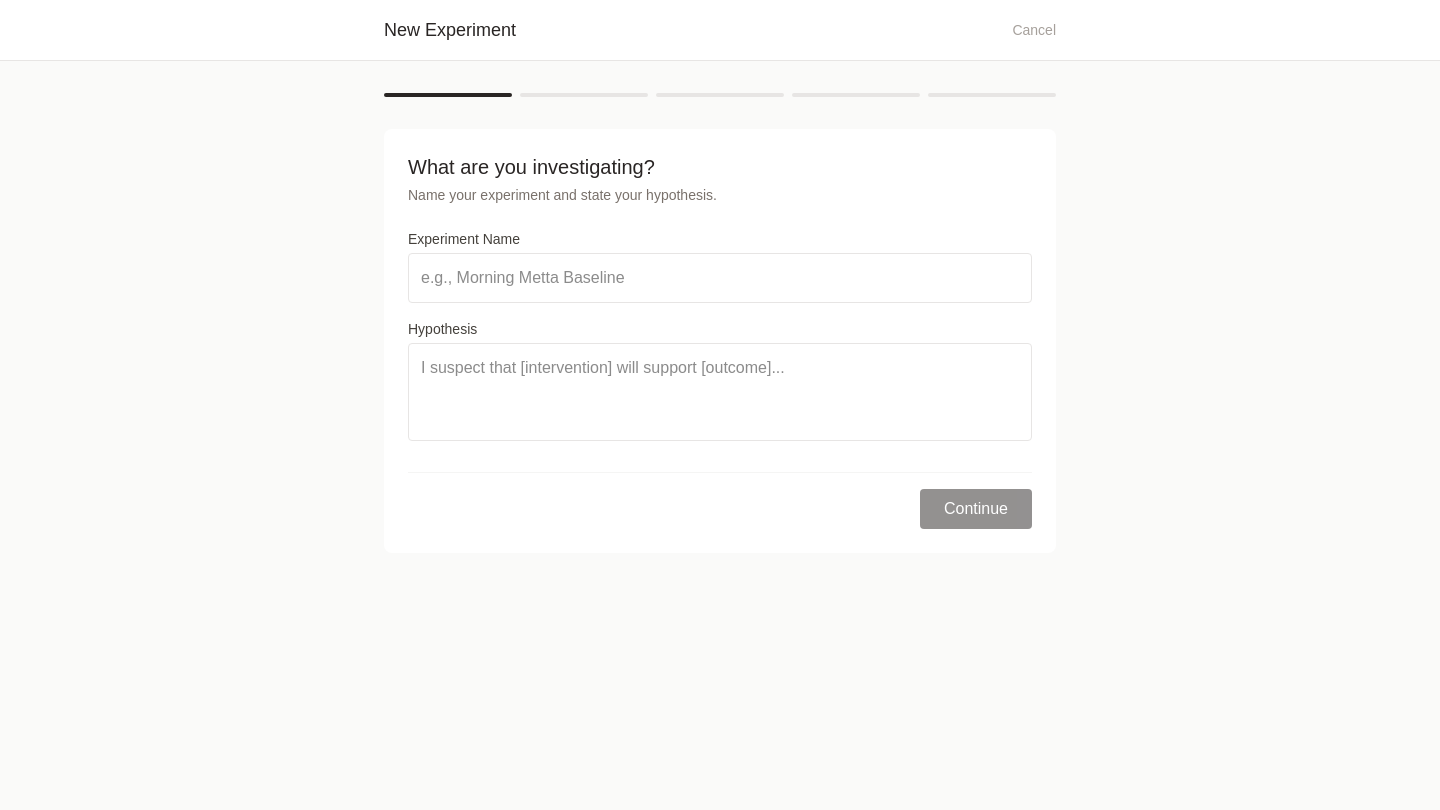
Scenario: CreateExperiment › Step 3: Metrics › adds a new metric
Type "Test" into the field with placeholder "e.g., Morning Metta Baseline" at (720, 278), box [408,253,1032,303]
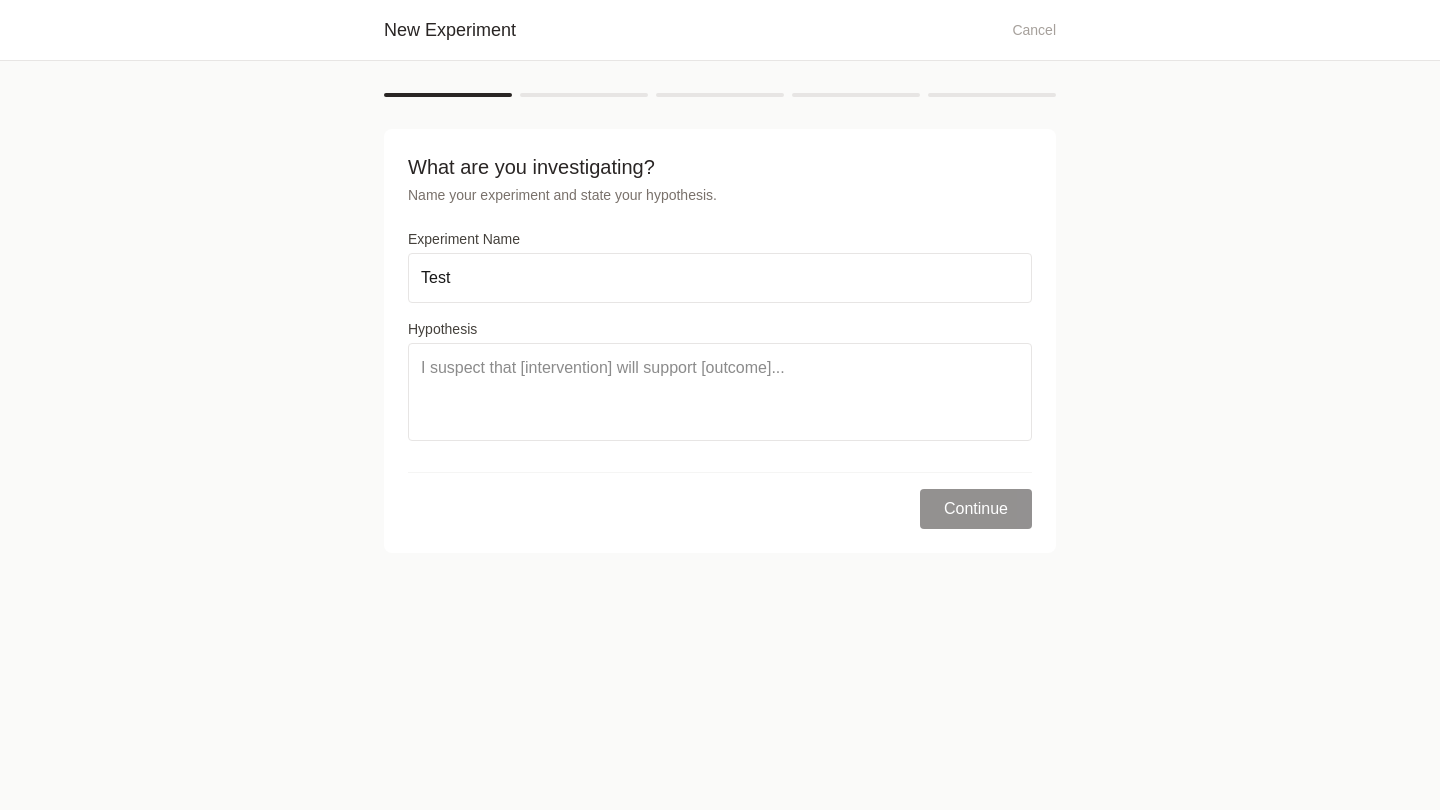
Type "Hypothesis" into the text box with placeholder "I suspect that [intervention] will support [outcome]..." at (720, 392), box [408,343,1032,441]
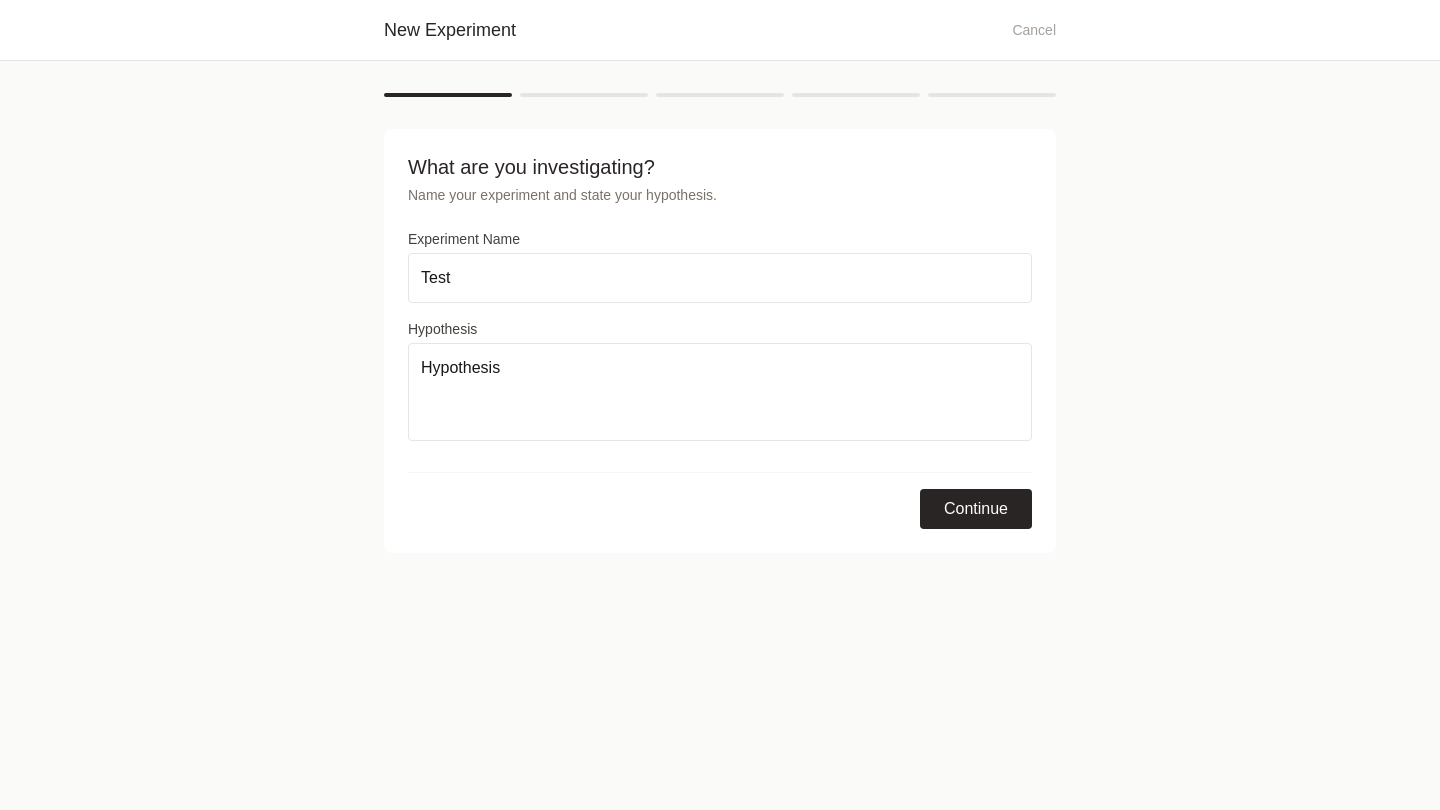
Click the button "Continue" at (976, 509), box [920,489,1032,529]
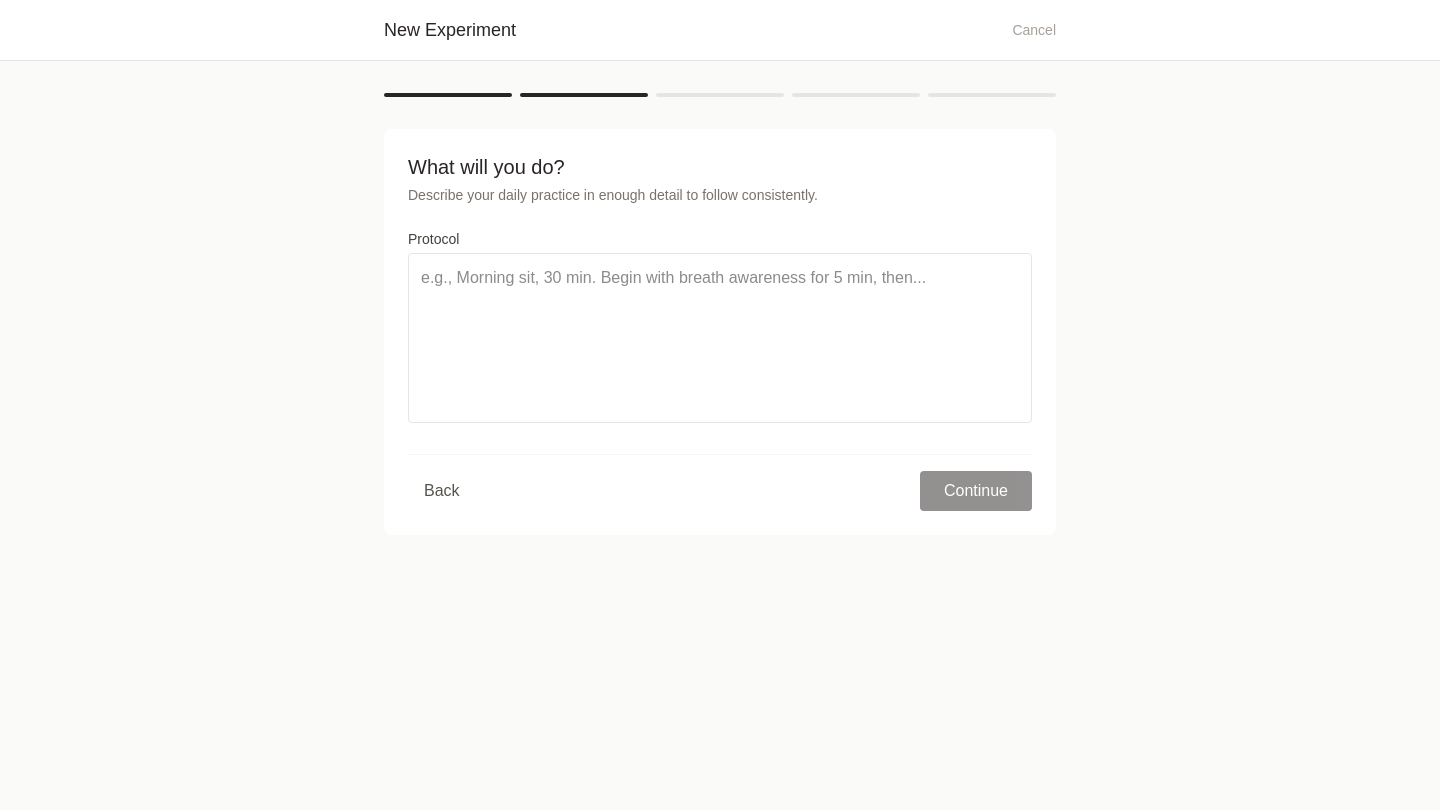
Replace the text in the text box with placeholder "Morning sit" with "Protocol" at (720, 338), box [408,253,1032,423]
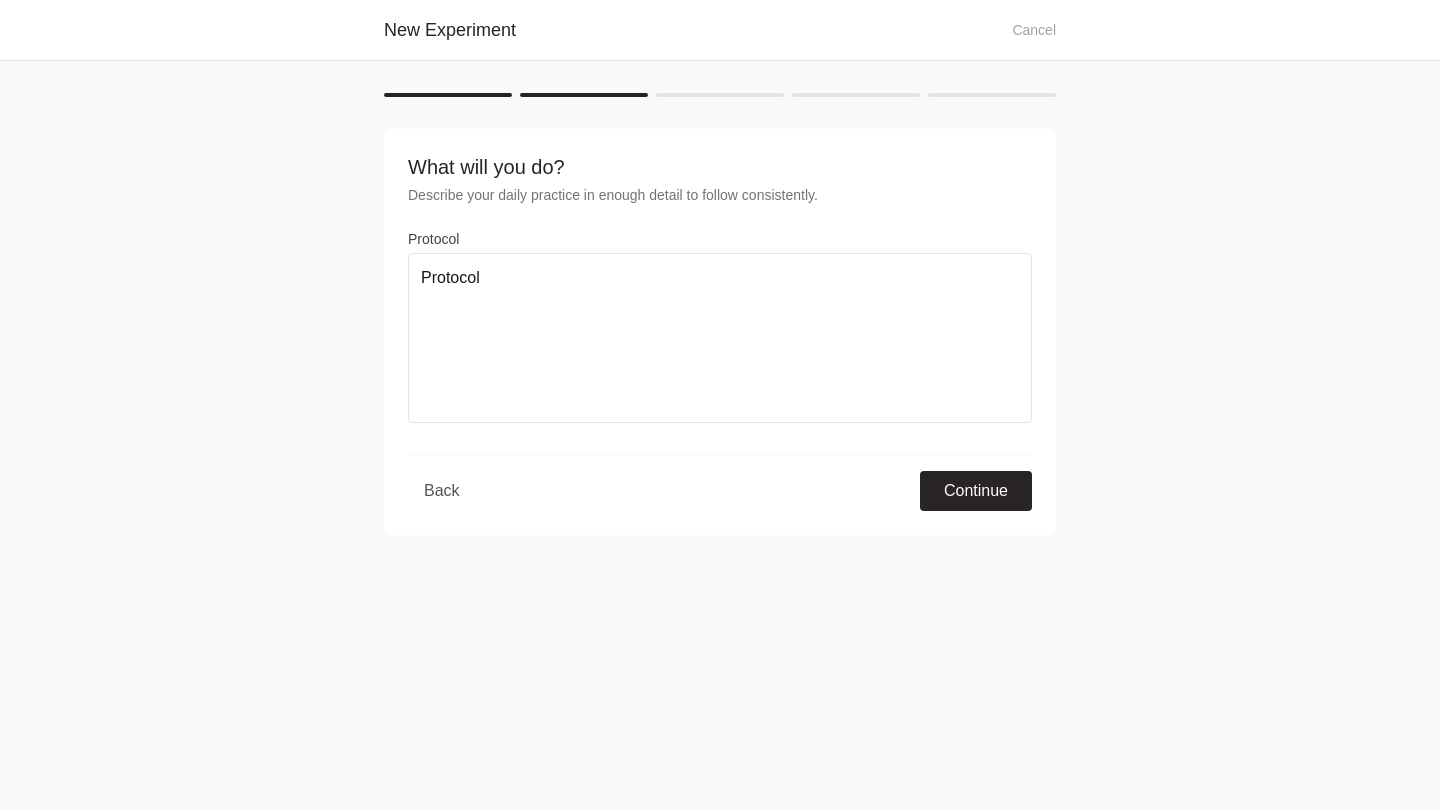
Click the button "Continue" at (976, 491), box [920,471,1032,511]
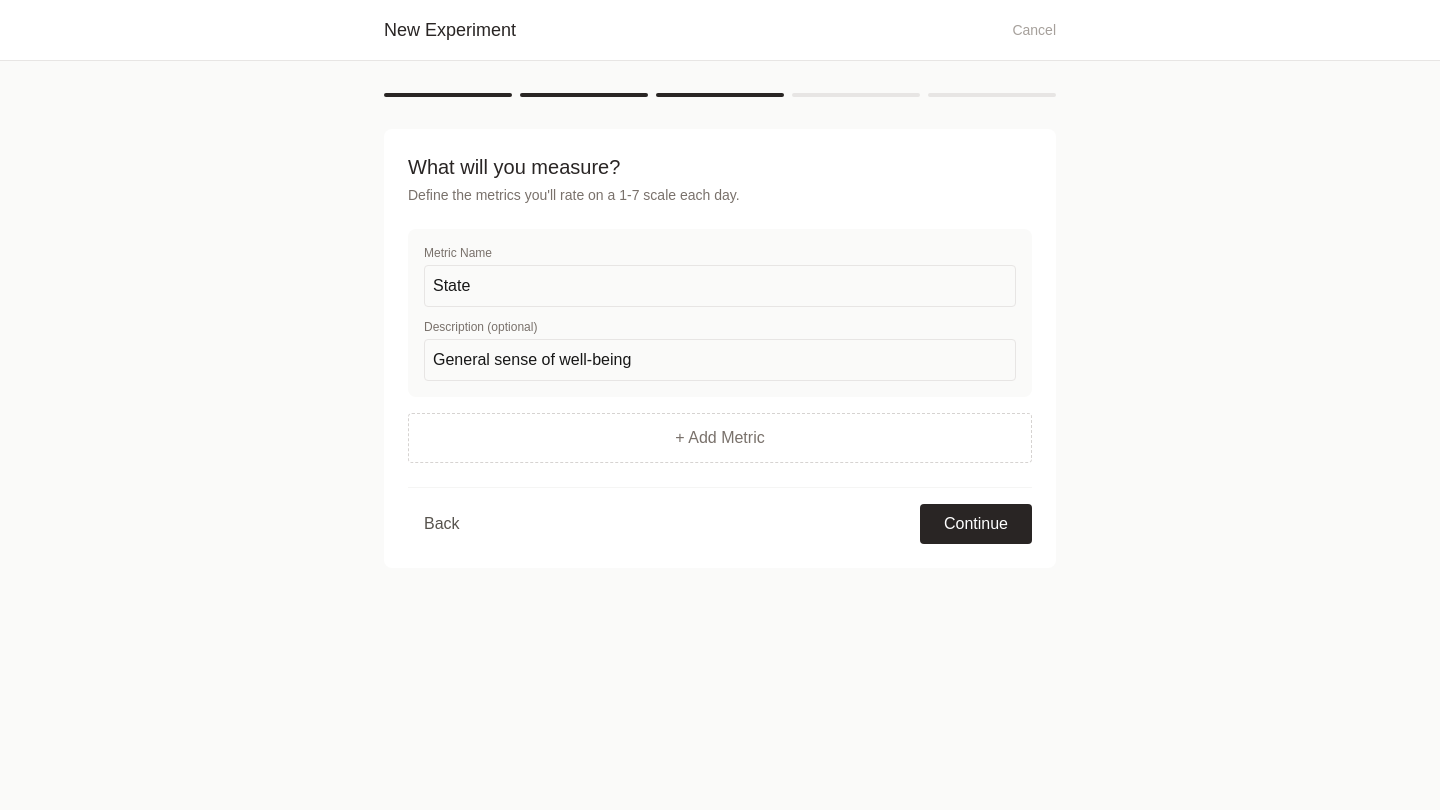
Click the button "+ Add Metric" at (720, 438), box [408,413,1032,463]
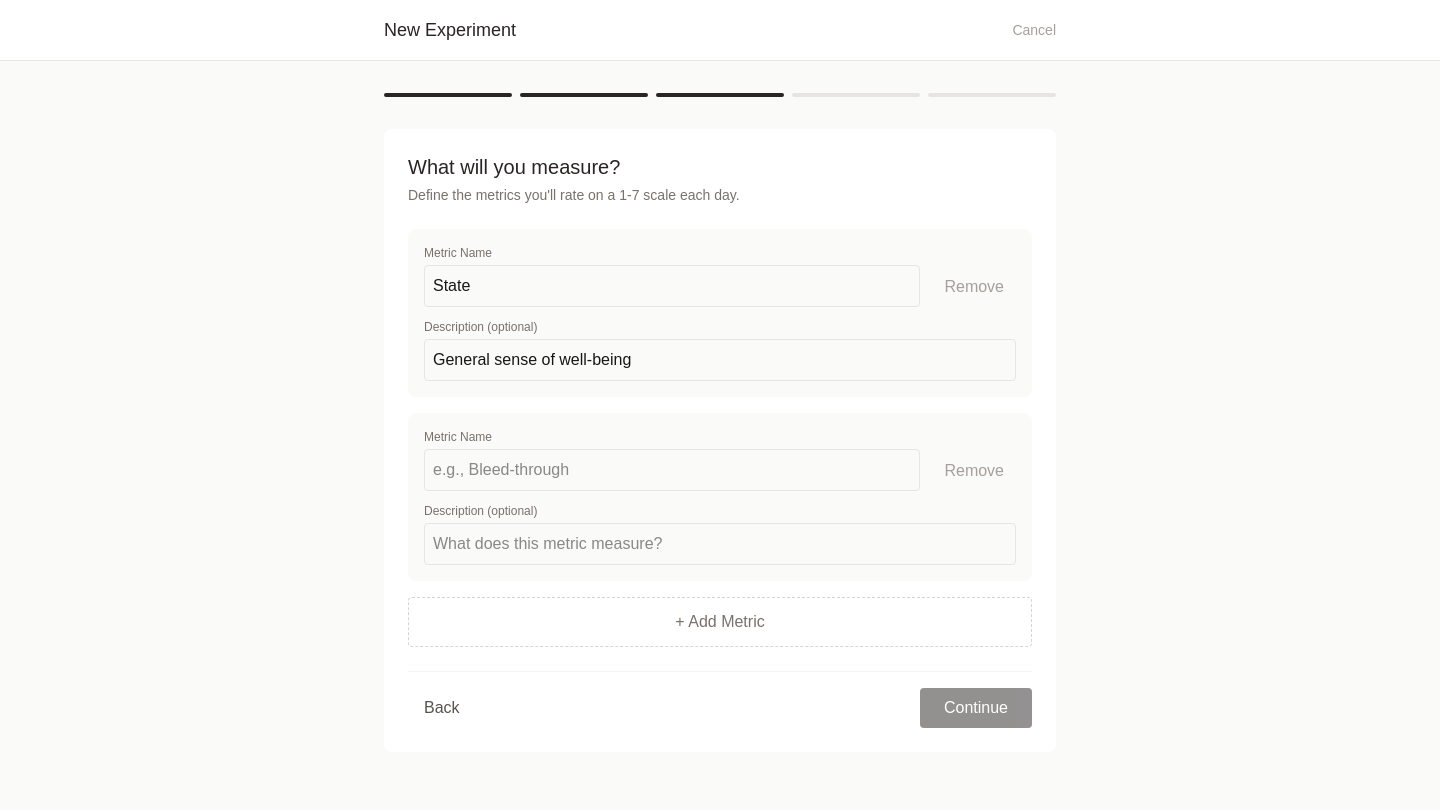
Expected: the number of fields with placeholder "e.g., Bleed-through" is 2, [424,265,920,307]; [424,449,920,491]
